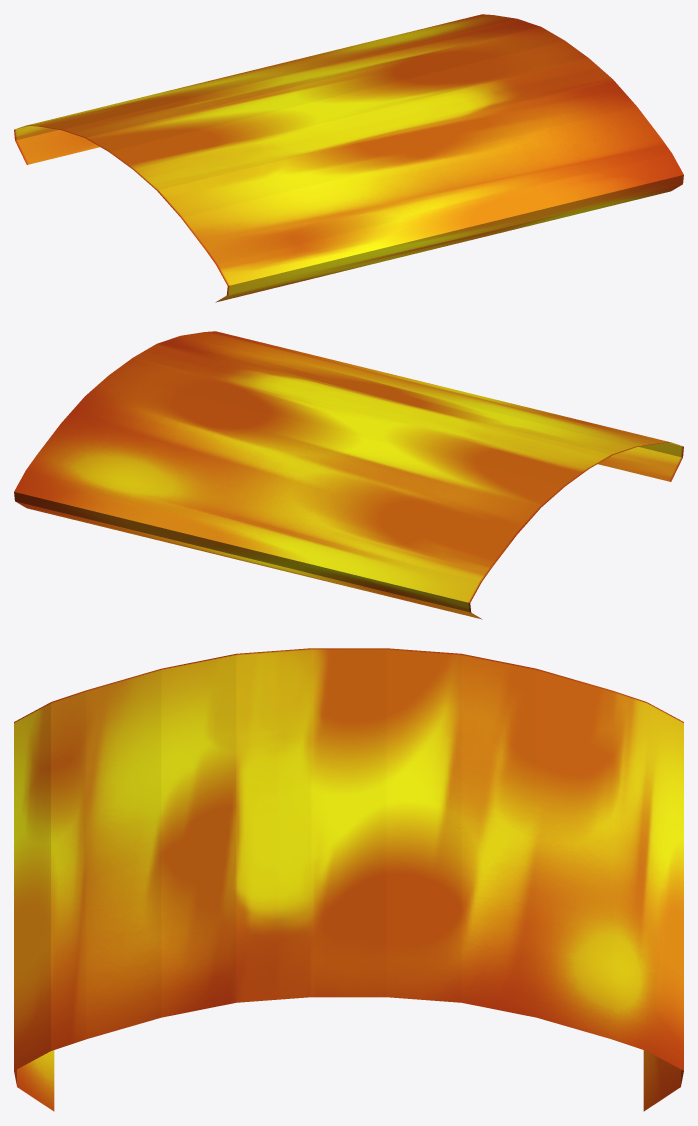
Rendered from Fire.glb.
3 views of the same model, one above another, from view 1: azimuth 30°, elevation 25°; view 2: azimuth 150°, elevation 25°; view 3: azimuth 270°, elevation 25° (orthographic). The views are drawn at different scales.
Visible parts, largest first — view 1: Plane; view 2: Plane; view 3: Plane.
Boxes of the visible parts, bbox=[...] form: Plane: bbox=[14, 14, 683, 302]; Plane: bbox=[14, 331, 683, 619]; Plane: bbox=[14, 648, 683, 1111].
Size of the model in its own units: 5.19 by 0.7934 by 4.21.
1 material, 1 textured.
